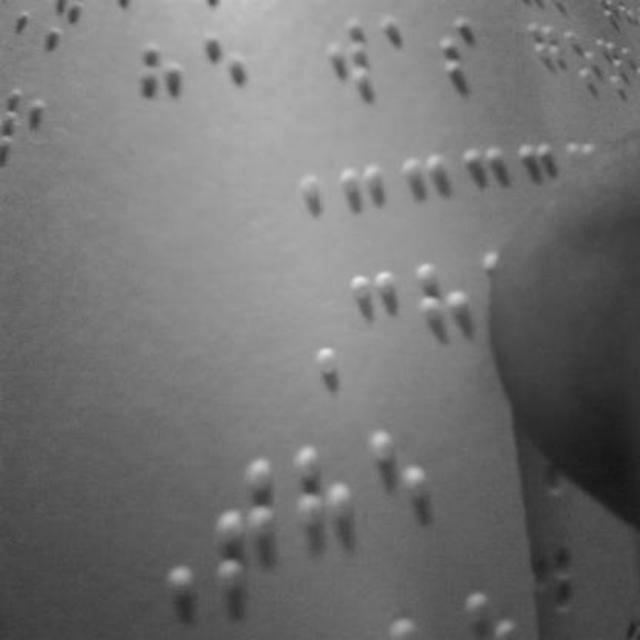braiile: (210, 454, 286, 610), (293, 441, 369, 591), (368, 426, 442, 572), (412, 254, 476, 376), (344, 261, 408, 379), (135, 35, 195, 147), (318, 10, 378, 122), (202, 28, 254, 140), (430, 6, 486, 110), (376, 10, 424, 116)
